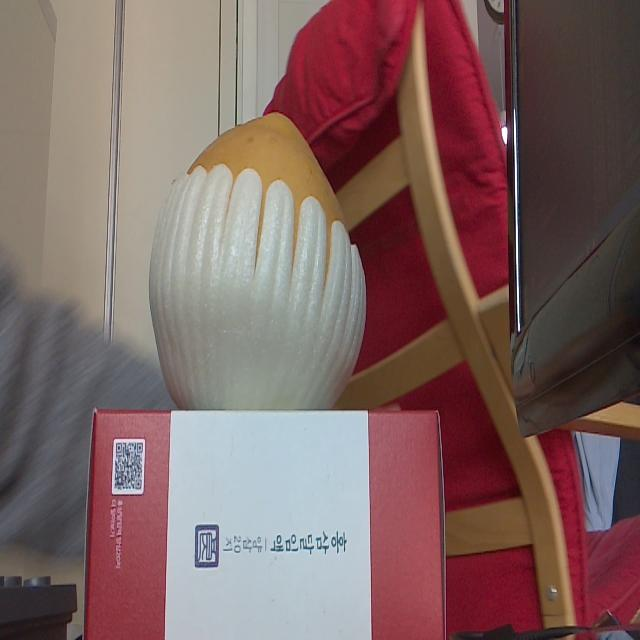pear: (155, 110, 367, 409)
